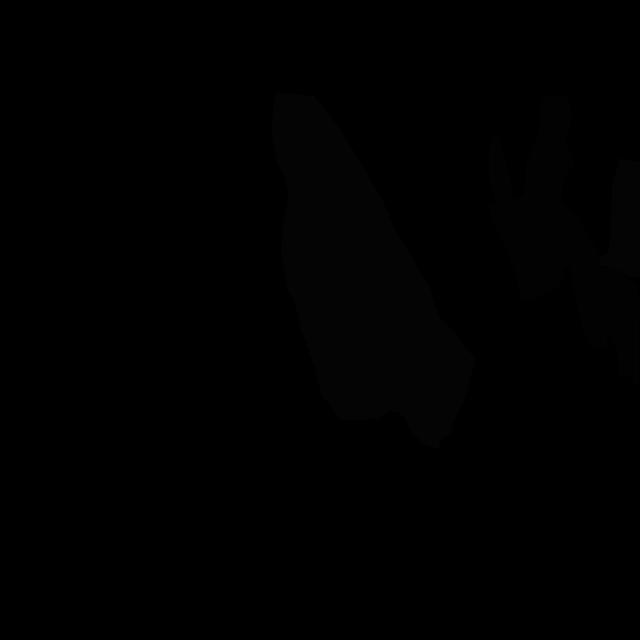cardboard: (488, 96, 640, 392)
soft_plastic: (272, 93, 476, 449), (599, 159, 640, 278)
